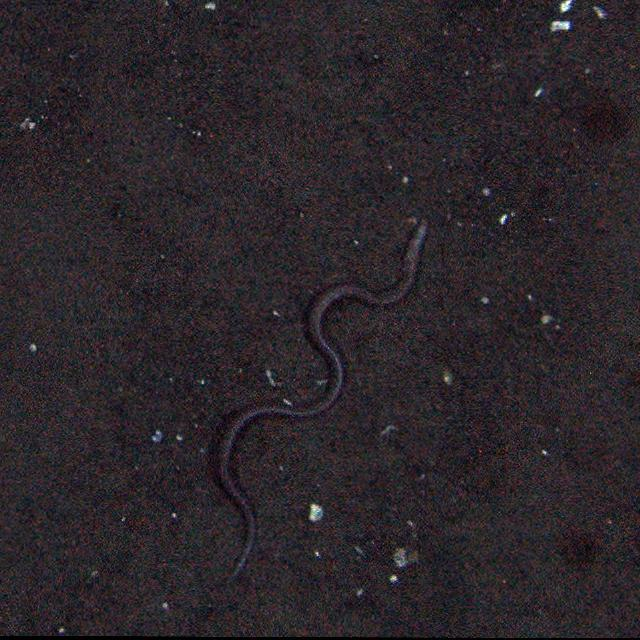eel: (204, 222, 434, 590)
